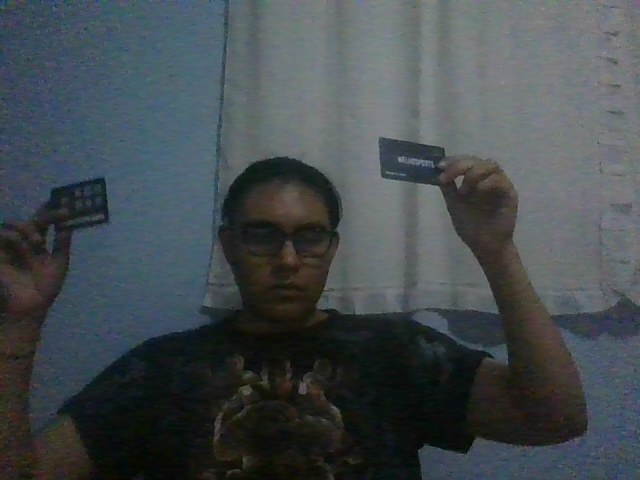tarjeta: (48, 176, 109, 233), (377, 136, 445, 187)
